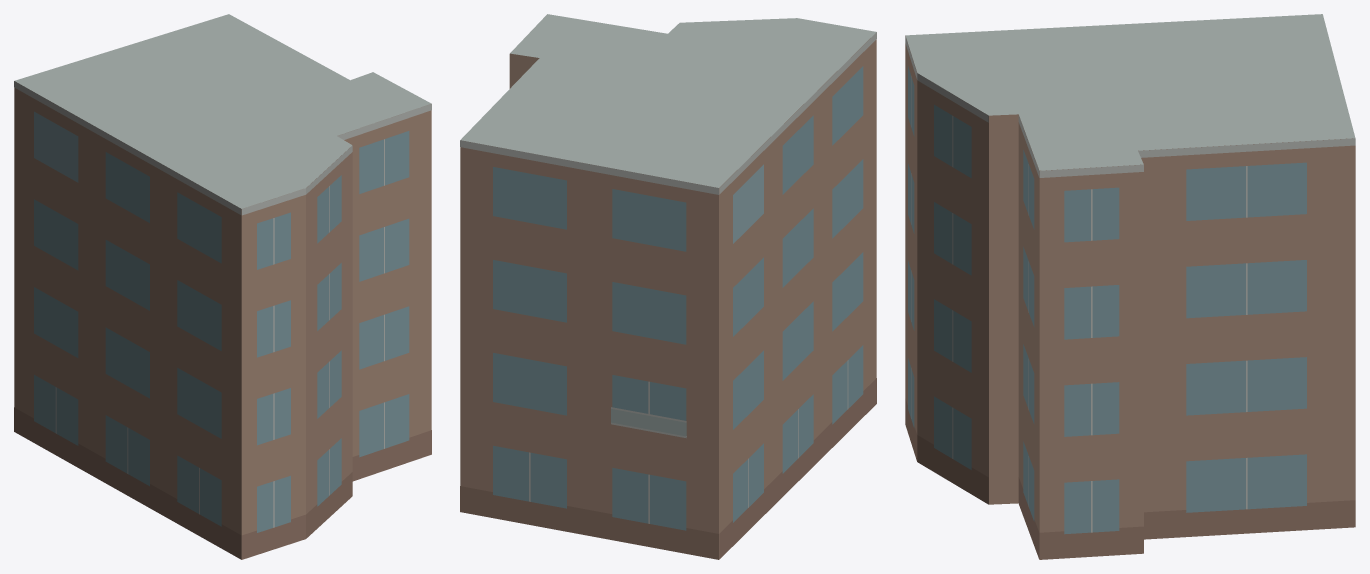
File: survey-upis-32458098.glb
3 views of the same model, side by side, from view 1: azimuth 30°, elevation 25°; view 2: azimuth 150°, elevation 25°; view 3: azimuth 270°, elevation 25° (orthographic). The views are drawn at different scales.
Parts seen in each view (by area): view 1: survey-upis-32458098.tmp; view 2: survey-upis-32458098.tmp; view 3: survey-upis-32458098.tmp.
Part boxes in pixels (x1,y1,x2,y2): survey-upis-32458098.tmp: [14, 14, 431, 559]; survey-upis-32458098.tmp: [460, 14, 876, 559]; survey-upis-32458098.tmp: [905, 14, 1355, 559].
Bounding box in the file's own units: 11.25 × 13 × 13.64.
